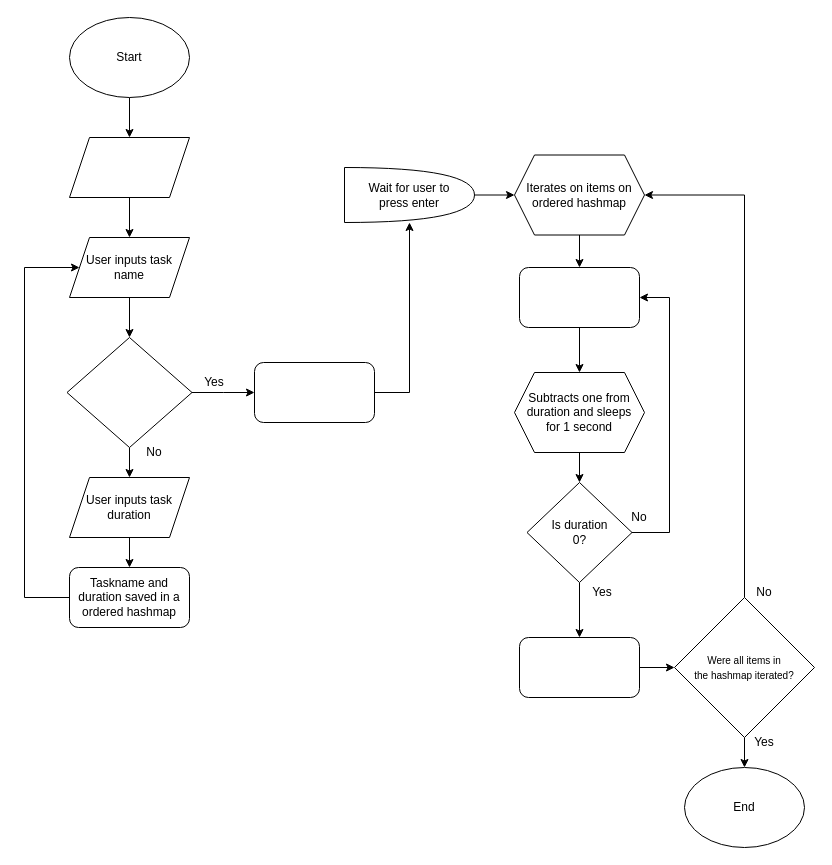
Image size: 832x865. Some labels were removed from this diagram. Here are the shapes that lost their labels. From the top down, the centre of each, then its label:
the point at 129,167: User inputs a name/nickname
the point at 579,297: Clears screen and print current task and duration
the point at 129,392: Is task name "done"?
the point at 314,392: Print all tasks
the point at 579,667: Show motivational message, and sleeps for 5 seconds
